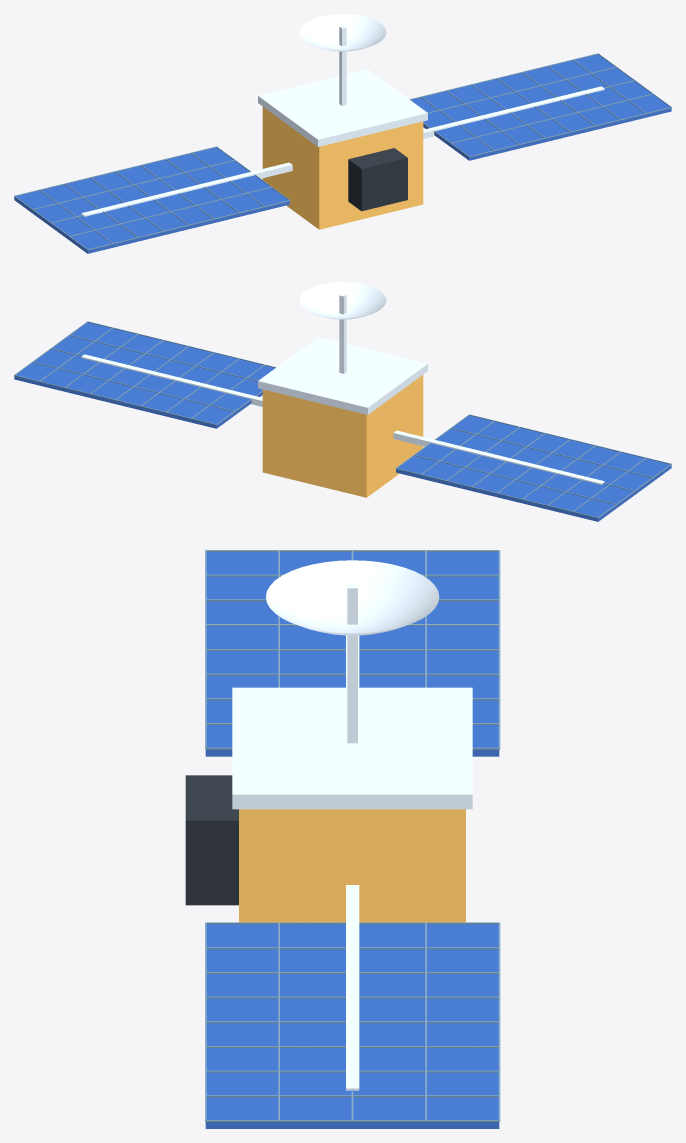
The model's file is satellite.glb.
3 views of the same model, one above another, from view 1: azimuth 30°, elevation 25°; view 2: azimuth 150°, elevation 25°; view 3: azimuth 270°, elevation 25° (orthographic). The views are drawn at different scales.
Parts seen in each view (by area): view 1: Solar array (×2), Thermal blanket bus, Instrument deck, Optical payload, High gain antenna, Solar array boom, Antenna mast; view 2: Solar array (×2), Thermal blanket bus, Instrument deck, High gain antenna, Solar array boom, Antenna mast; view 3: Solar array (×2), Instrument deck, Thermal blanket bus, High gain antenna, Optical payload, Cell conductor (×5), Solar array boom, Antenna mast.
Boxes of the visible parts, x1=… form: Solar array (×2): x1=14, y1=54, x2=671, y2=253; Thermal blanket bus: x1=262, y1=107, x2=423, y2=229; Instrument deck: x1=258, y1=69, x2=427, y2=146; Optical payload: x1=348, y1=148, x2=407, y2=211; High gain antenna: x1=299, y1=14, x2=386, y2=51; Solar array boom: x1=81, y1=86, x2=604, y2=216; Antenna mast: x1=339, y1=25, x2=346, y2=105; Solar array (×2): x1=14, y1=322, x2=671, y2=521; Thermal blanket bus: x1=262, y1=375, x2=423, y2=497; Instrument deck: x1=258, y1=337, x2=427, y2=414; High gain antenna: x1=299, y1=282, x2=386, y2=319; Solar array boom: x1=81, y1=354, x2=604, y2=484; Antenna mast: x1=339, y1=293, x2=346, y2=373; Solar array (×2): x1=205, y1=552, x2=499, y2=1128; Instrument deck: x1=232, y1=687, x2=472, y2=809; Thermal blanket bus: x1=239, y1=809, x2=465, y2=922; High gain antenna: x1=266, y1=560, x2=439, y2=635; Optical payload: x1=185, y1=775, x2=238, y2=905; Cell conductor (×5): x1=205, y1=673, x2=499, y2=1097; Solar array boom: x1=346, y1=635, x2=359, y2=1090; Antenna mast: x1=347, y1=584, x2=357, y2=743.
Size of the model in its own units: 10.11 by 2.8 by 2.36.
